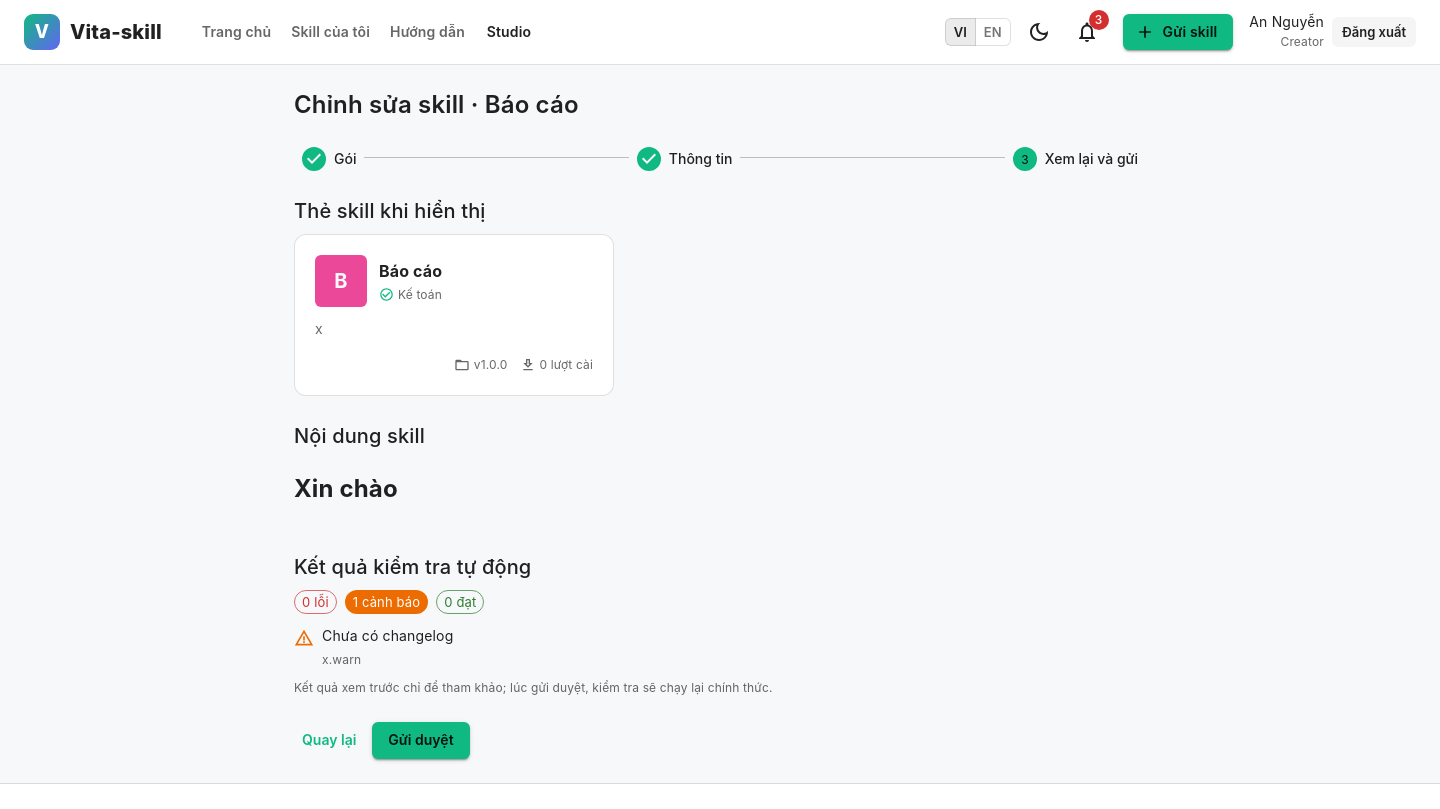
Test case: Wizard › bước 3: thiếu thông tin khi gửi thì quay về bước 2 và báo trường thiếu
Click the button "Gửi duyệt": (421,741) 372,722 -> 470,759
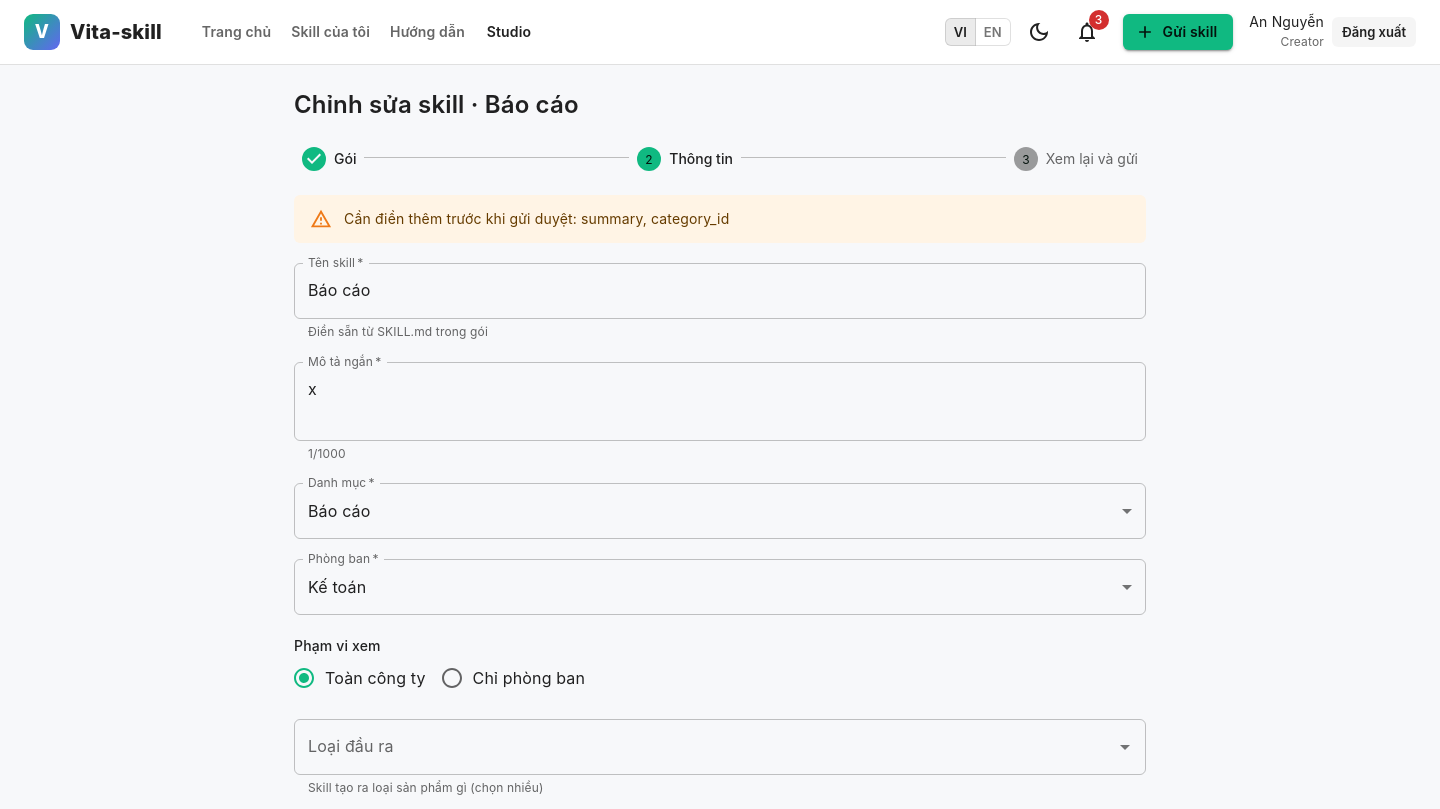
Result: the text "Cần điền thêm trước khi gửi duyệt: summary, category_id" is shown at 344,210 -> 729,227
